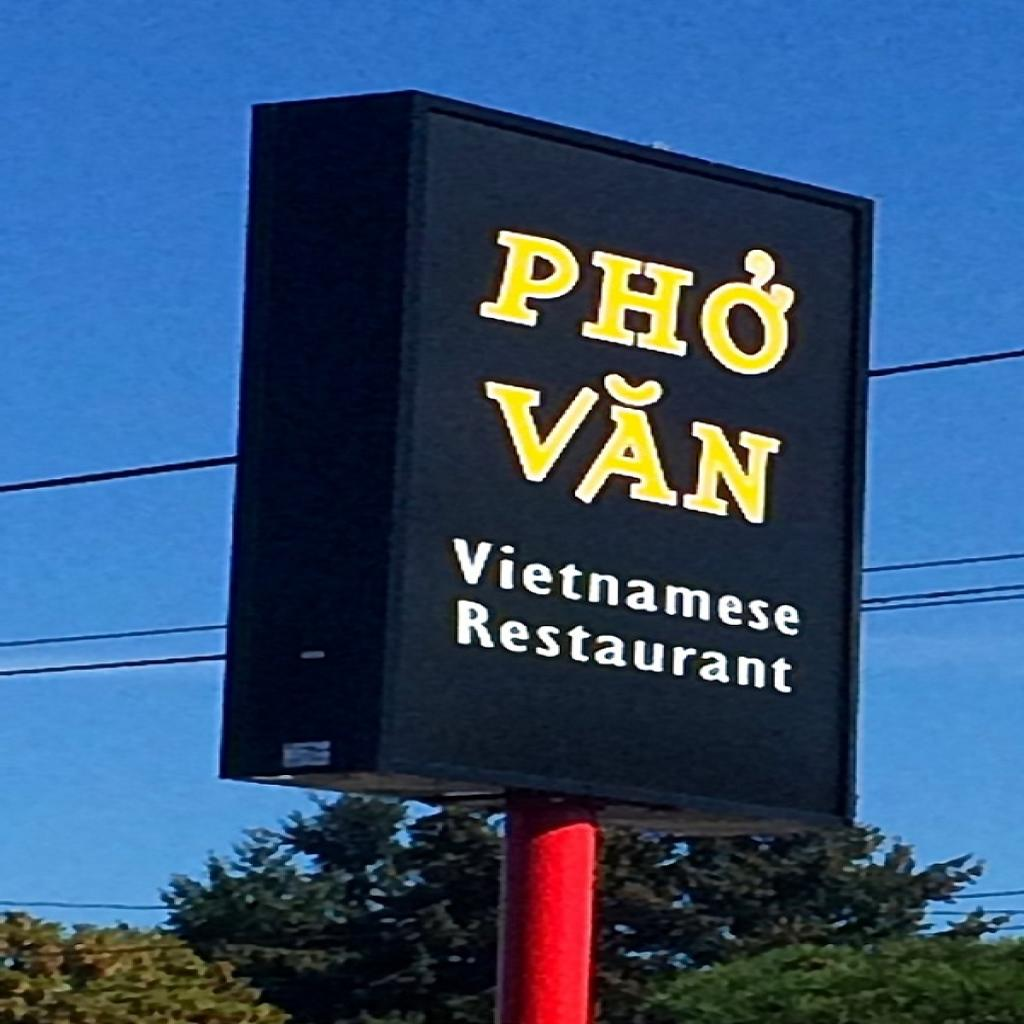text: (461, 194, 836, 394), (468, 346, 797, 542), (435, 527, 818, 646)
